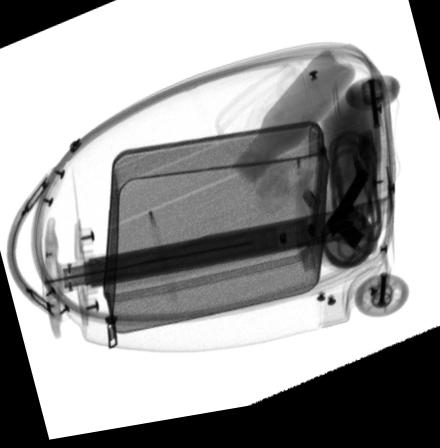Gun: (325, 180, 369, 261)
